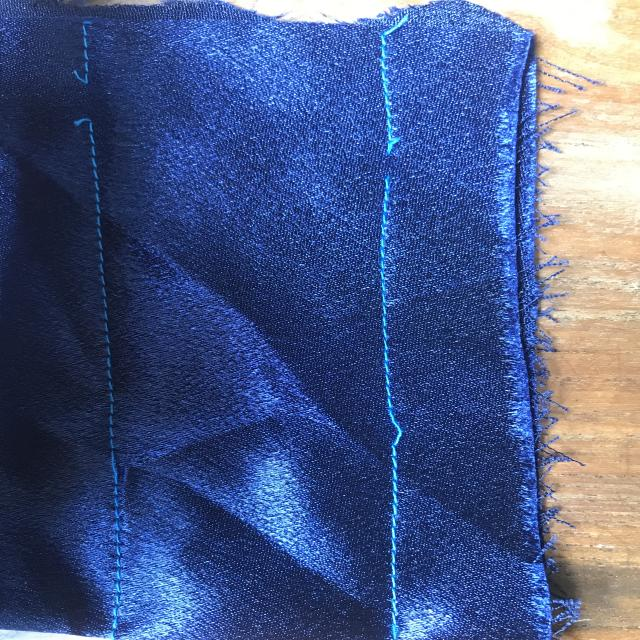broken: (60, 44, 116, 152), (352, 116, 418, 197)
good: (78, 274, 126, 369)
skip: (360, 376, 416, 474)
